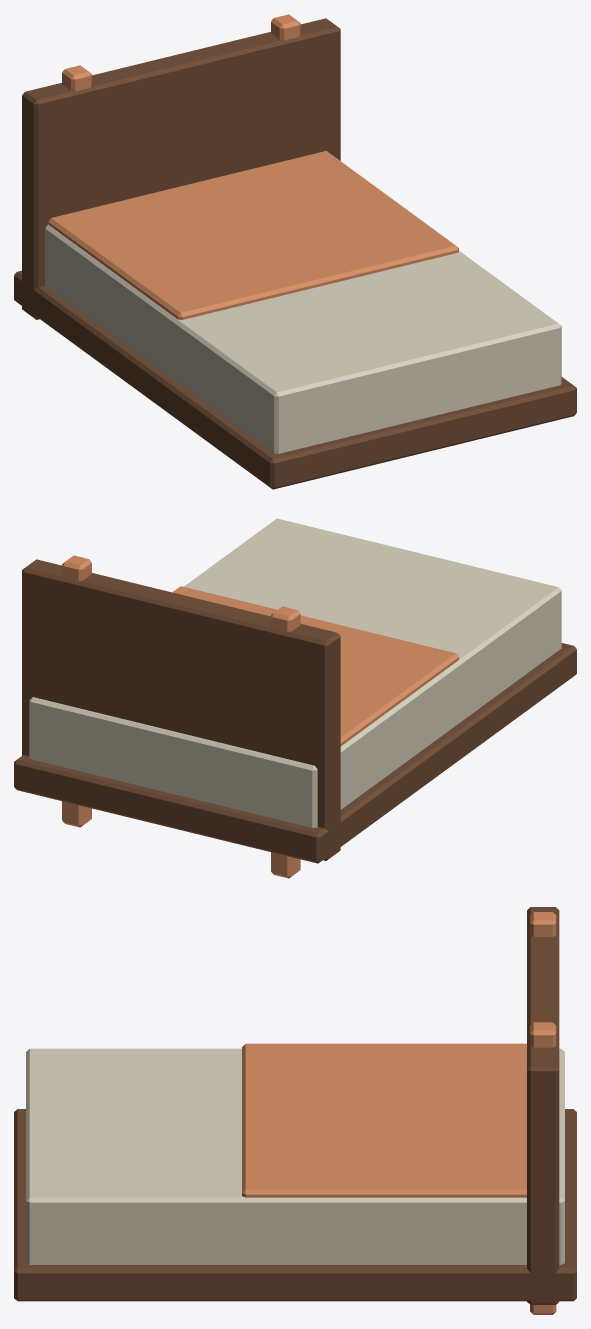
Rendered from fancy_bed.lod1.glb.
The picture shows the model from 3 angles, top to bottom: view 1: azimuth 30°, elevation 25°; view 2: azimuth 150°, elevation 25°; view 3: azimuth 270°, elevation 25°; orthographic projection. The views are drawn at different scales.
Size of the model in its own units: 1.9 by 1.55 by 2.78.
